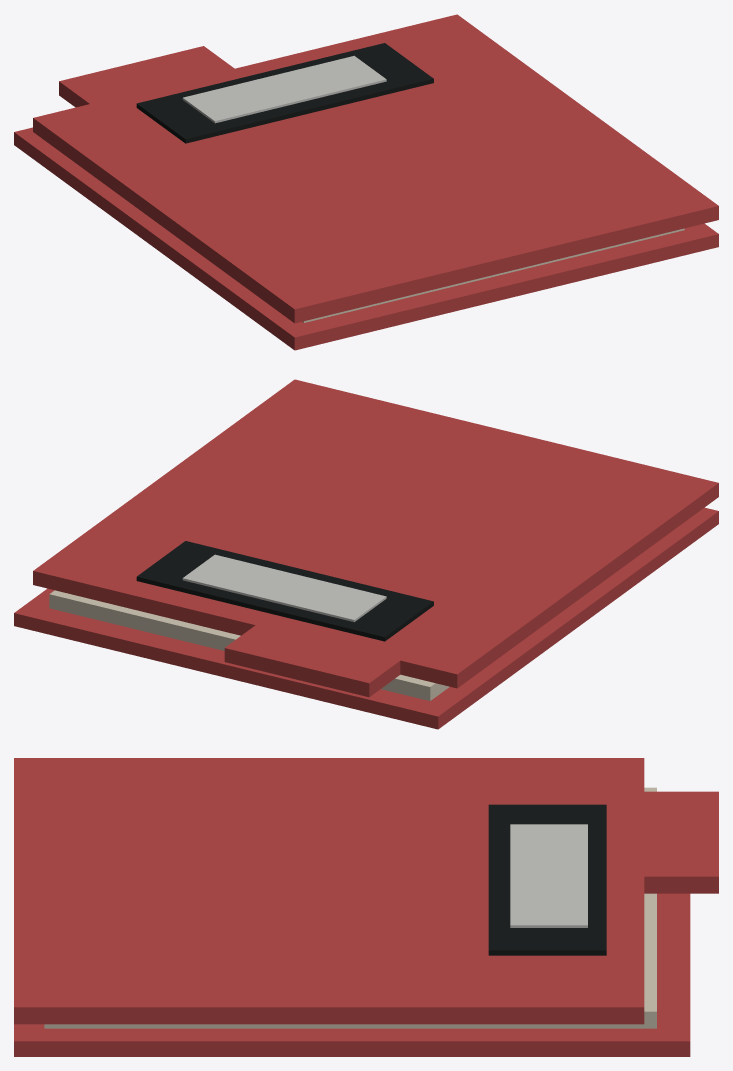
Rendered from CMU3DFolderRed.glb.
3 views of the same model, one above another, from view 1: azimuth 30°, elevation 25°; view 2: azimuth 150°, elevation 25°; view 3: azimuth 270°, elevation 25° (orthographic). The views are drawn at different scales.
Visible parts, largest first — view 1: folder cover, folder back, label inset, paper label, upper tab, file pages; view 2: folder cover, folder back, label inset, upper tab, paper label, file pages; view 3: folder cover, folder back, label inset, paper label, upper tab, file pages.
Boxes of the visible parts, left/top/right/bottom form: folder cover: left=33, top=14, right=718, bottom=323; folder back: left=14, top=127, right=718, bottom=350; label inset: left=136, top=43, right=433, bottom=143; paper label: left=182, top=55, right=386, bottom=123; upper tab: left=59, top=46, right=235, bottom=107; file pages: left=302, top=228, right=684, bottom=322; folder cover: left=33, top=379, right=718, bottom=688; folder back: left=14, top=507, right=718, bottom=729; label inset: left=136, top=541, right=433, bottom=641; upper tab: left=224, top=625, right=400, bottom=697; paper label: left=182, top=554, right=386, bottom=622; file pages: left=49, top=590, right=449, bottom=700; folder cover: left=14, top=758, right=644, bottom=1024; folder back: left=14, top=893, right=690, bottom=1056; label inset: left=488, top=804, right=606, bottom=955; paper label: left=510, top=824, right=587, bottom=927; upper tab: left=640, top=791, right=718, bottom=893; file pages: left=44, top=787, right=656, bottom=1028.
Bounding box in the file's own units: 0.41 × 0.044 × 0.49.
